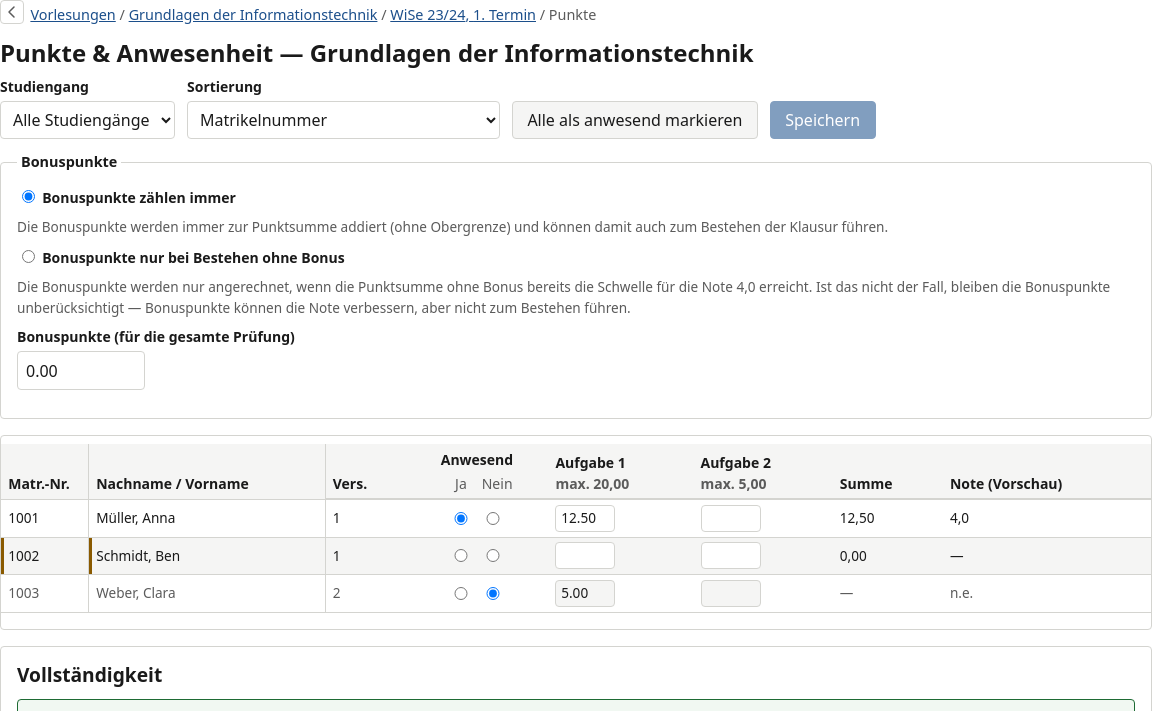
Scenario: PointsEntryPage — §8.1 recomputation warning › shows nothing when the save never touched bonus_mode/bonus_points (no exam PATCH at all)
This screenshot has width=1152, height=711.
Check: the row with test id "points-row-1" is shown, box x1=1 y1=500 x2=1151 y2=538
Click the radio button with test id "attended-2-present" at (461, 556), box x1=450 y1=549 x2=472 y2=562
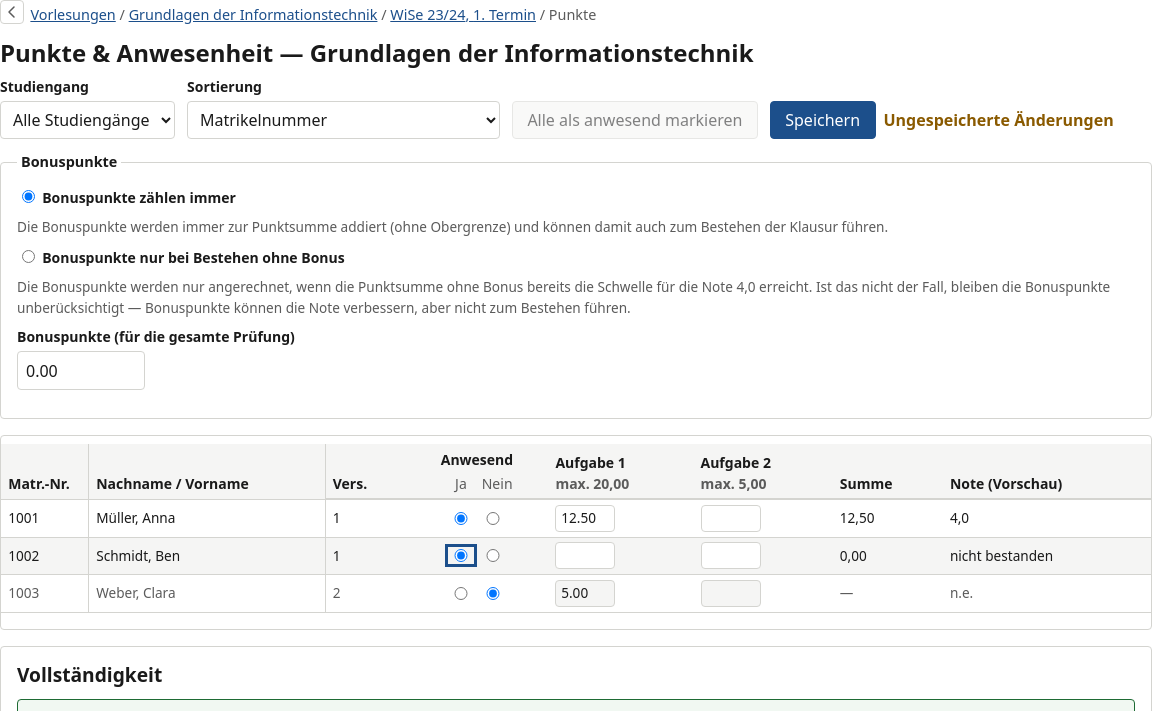
Click the button "Speichern" at (823, 120), box x1=770 y1=101 x2=876 y2=139
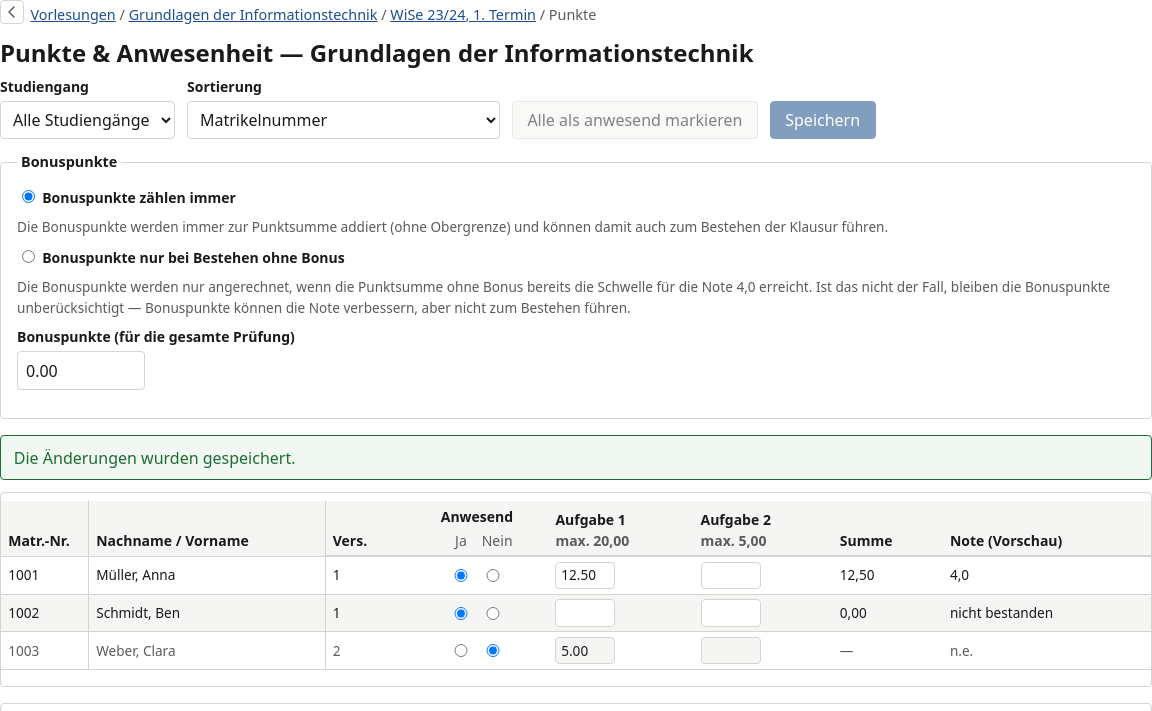
Check: the text "Die Änderungen wurden gespeichert." is shown, box x1=0 y1=435 x2=1151 y2=480
